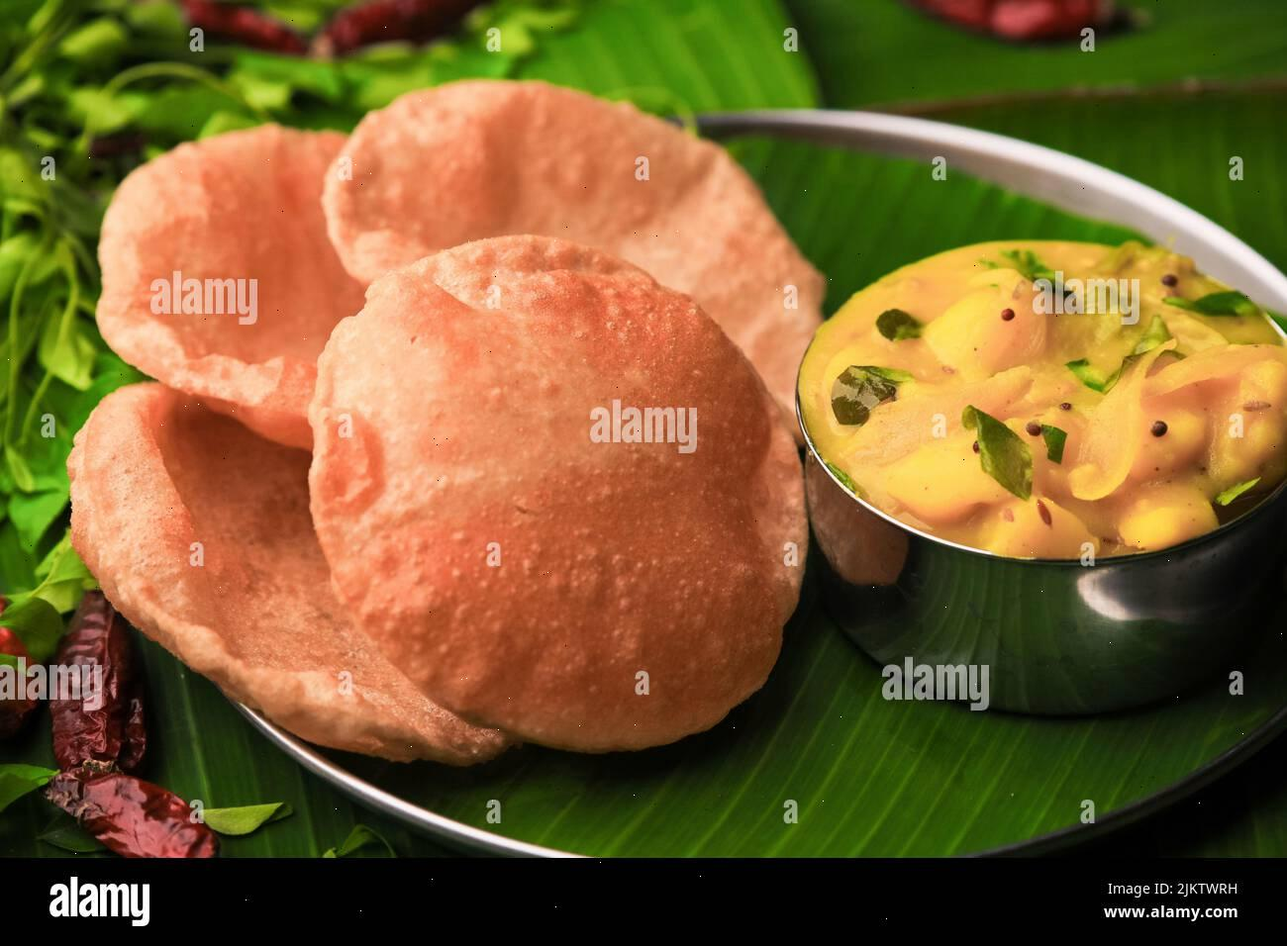puri: (92, 87, 790, 856)
